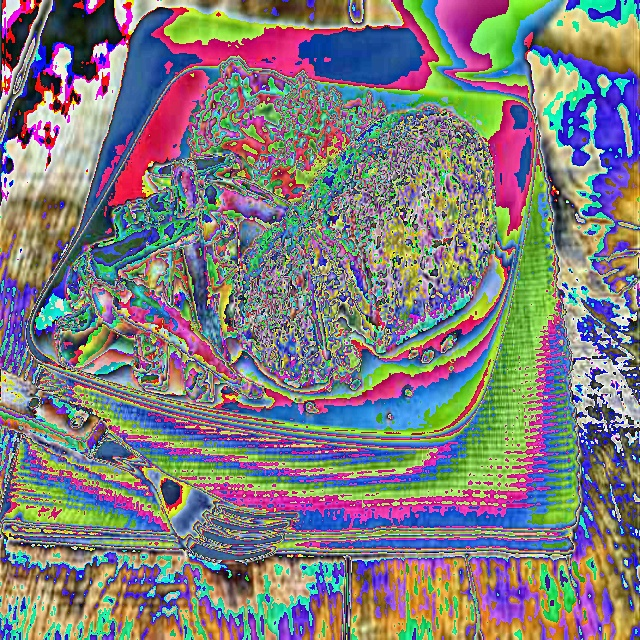background: (54, 58, 496, 400)
